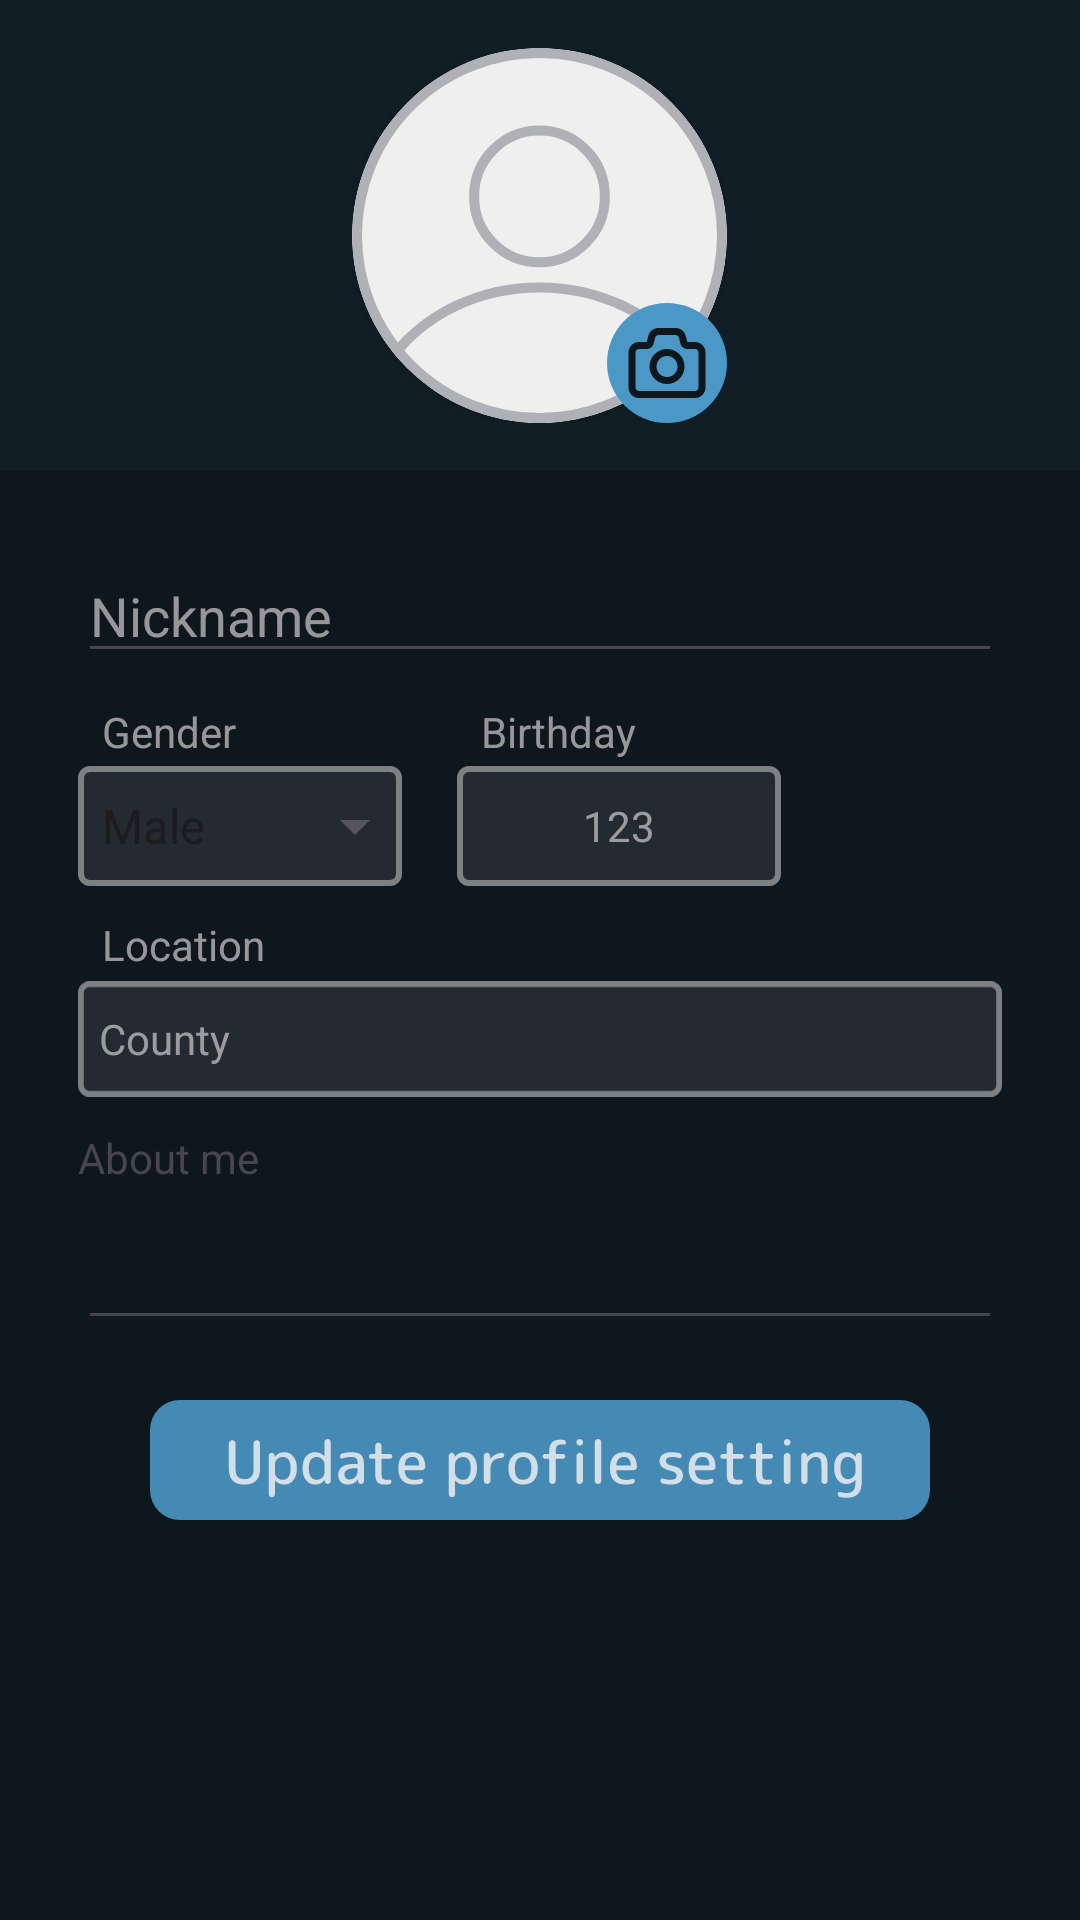

Screen size 1080 × 1920. Icon name, then its center in pixels as (x=x, y=y):
change: (x=667, y=363)
